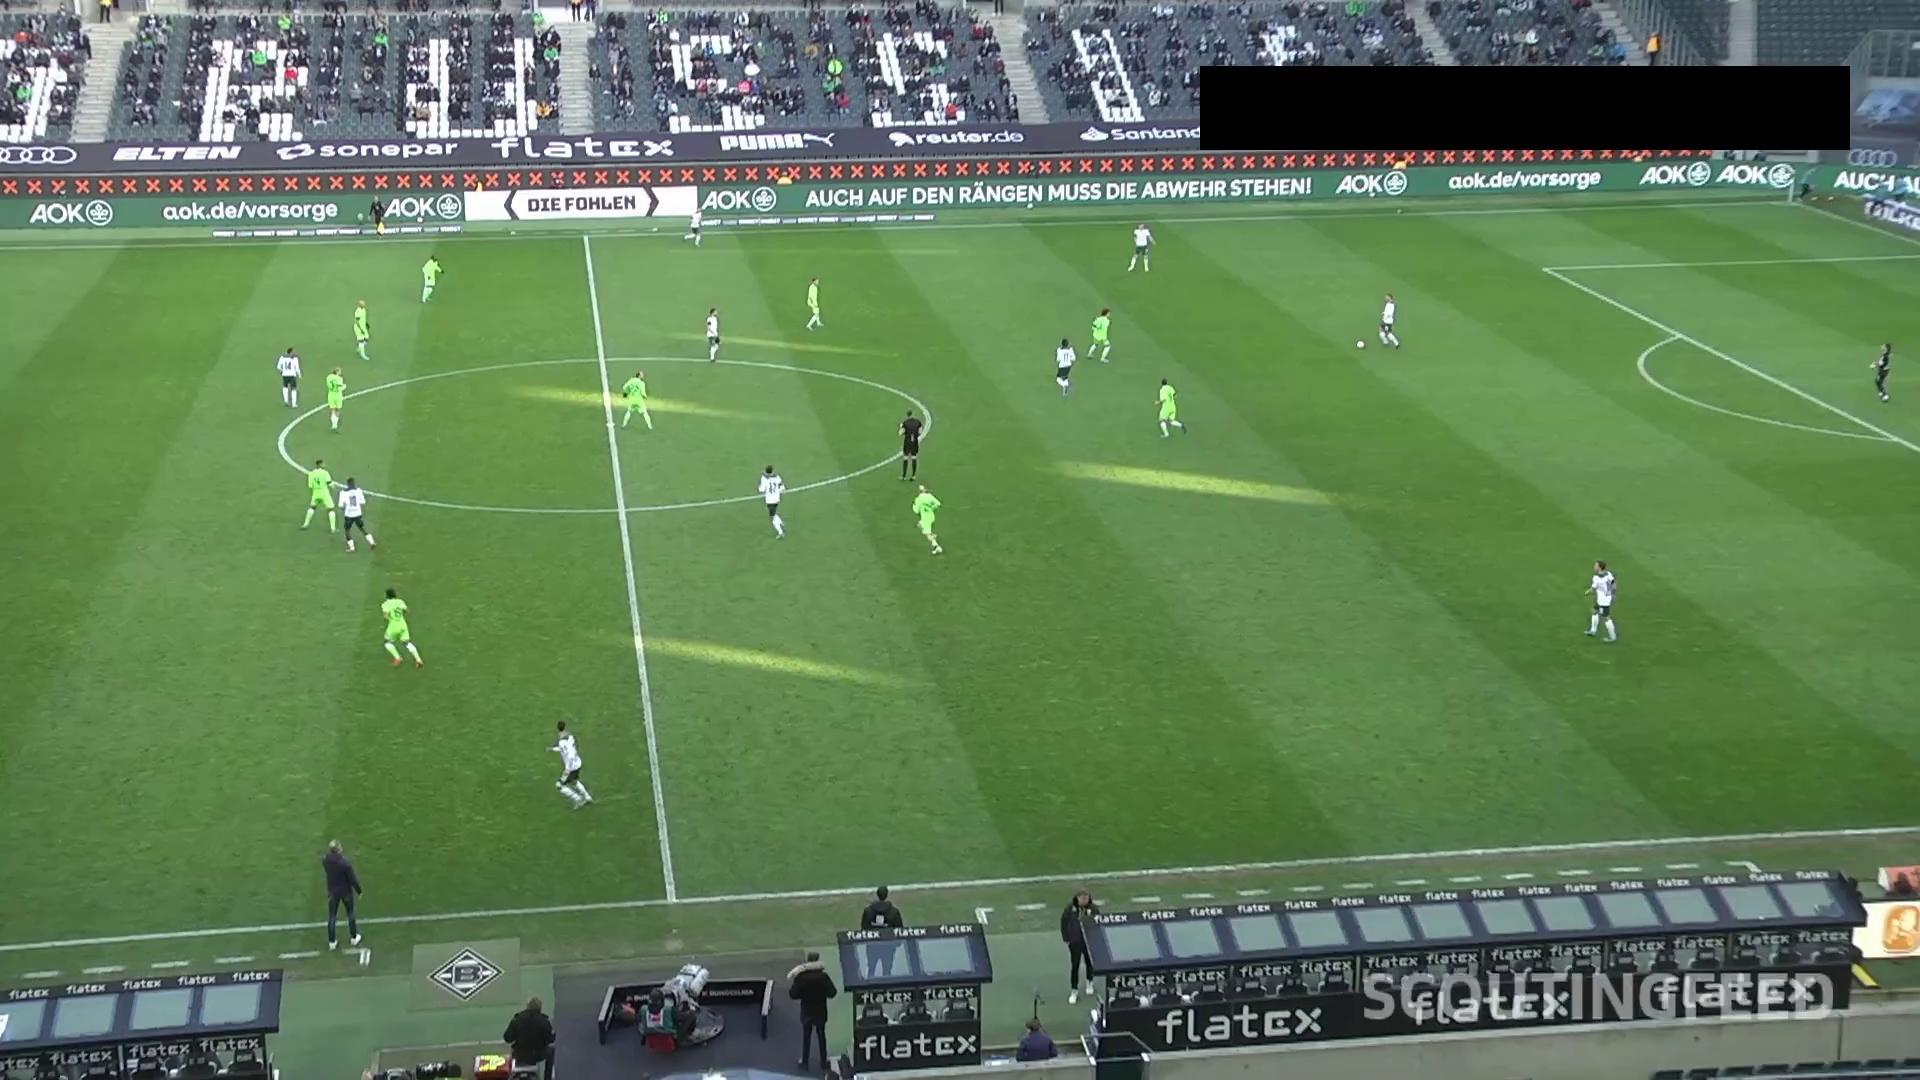Location-of-ball: (1349, 335, 1376, 357)
